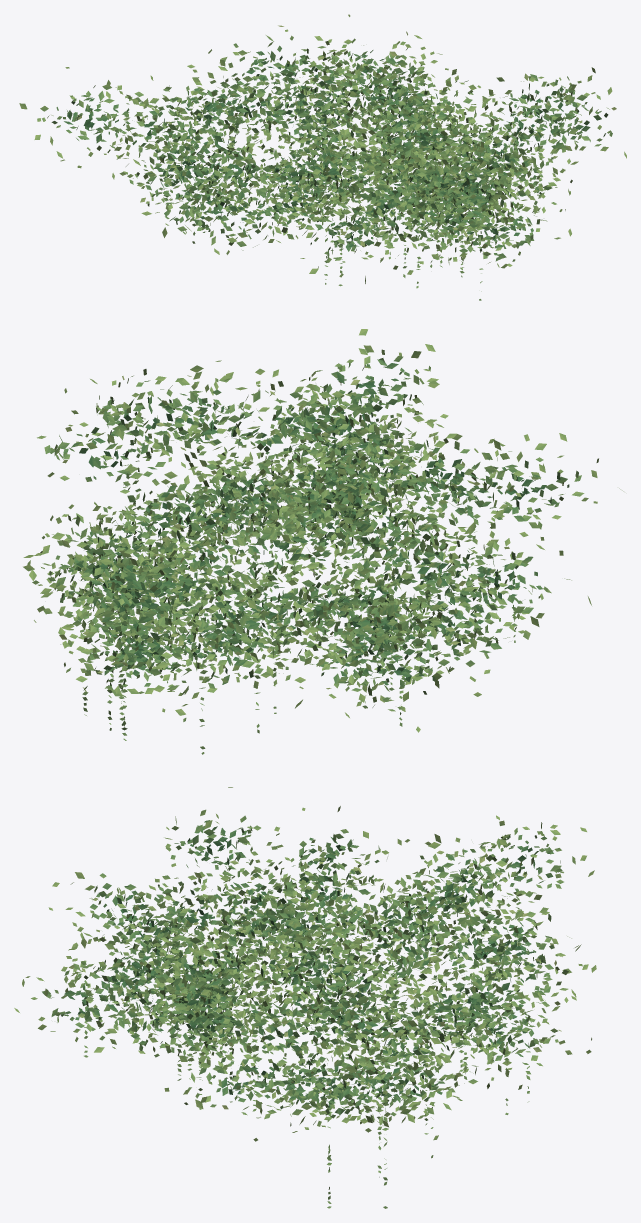
File: holy_canopy3.glb
3 views of the same model, one above another, from view 1: azimuth 30°, elevation 25°; view 2: azimuth 150°, elevation 25°; view 3: azimuth 270°, elevation 25° (orthographic). The views are drawn at different scales.
Visible parts, largest first — view 1: holy_canopy3; view 2: holy_canopy3; view 3: holy_canopy3.
Part boxes in pixels (x1,y1,x2,y2): holy_canopy3: (19,14,626,300); holy_canopy3: (23,329,623,754); holy_canopy3: (14,787,596,1208).
Bounding box in the file's own units: 33.51 × 20.51 × 34.32.
1 material, 1 textured.
